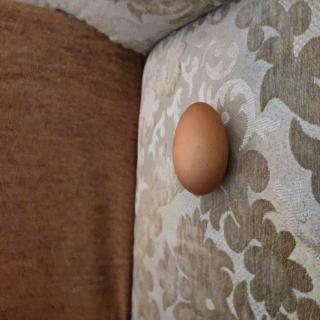Telur: (169, 103, 233, 199)
